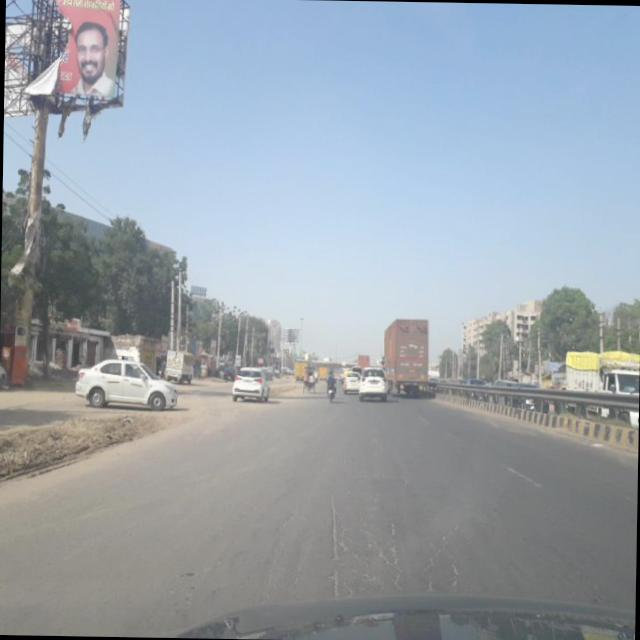crack: (338, 485, 464, 593)
pothole: (324, 466, 348, 588), (270, 472, 294, 594)
